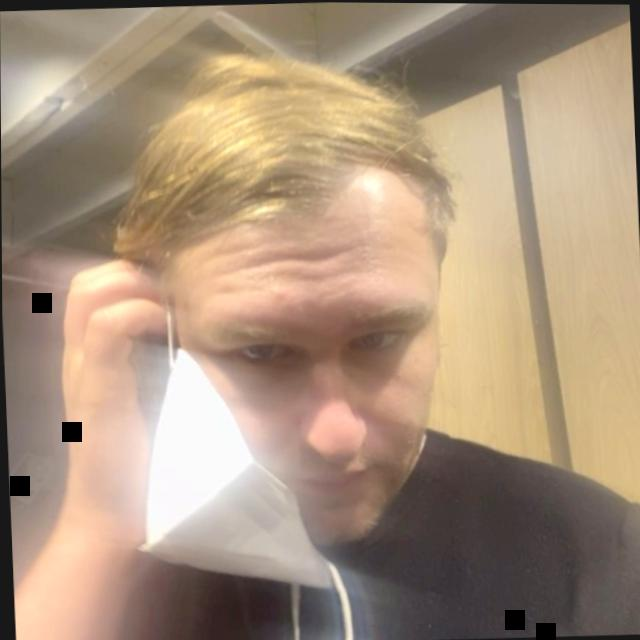NO-Mask: (134, 28, 497, 547)
